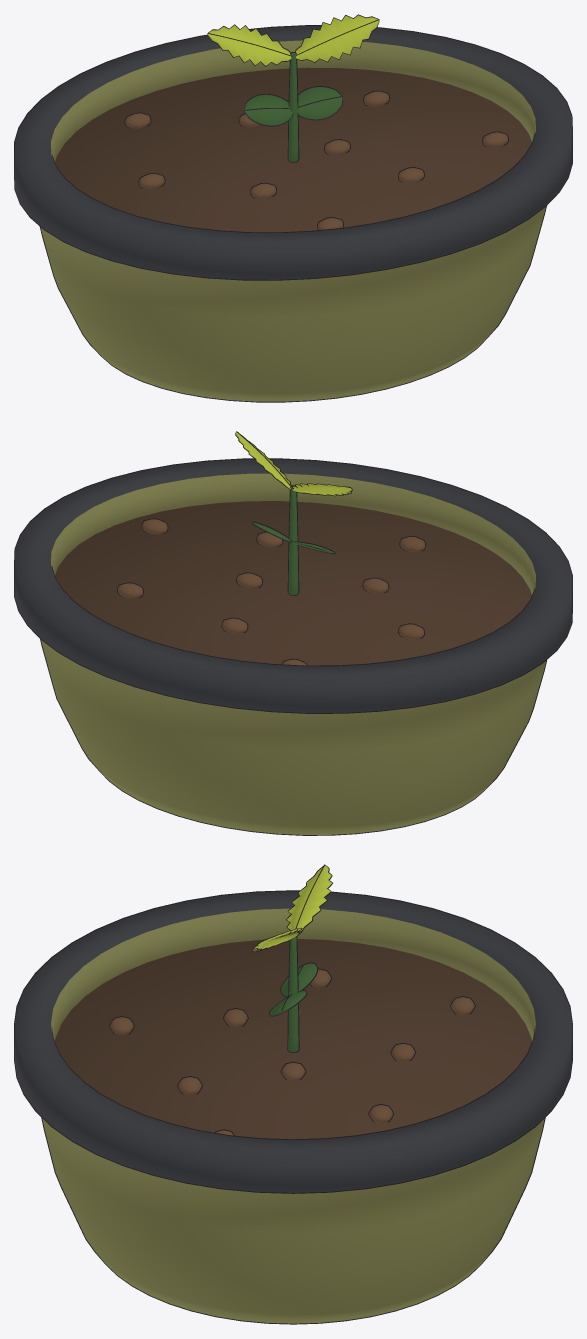
File: cannabis_eventail_seedling_toon.glb
The picture shows the model from 3 angles, top to bottom: view 1: azimuth 30°, elevation 25°; view 2: azimuth 150°, elevation 25°; view 3: azimuth 270°, elevation 25°; orthographic projection. The views are drawn at different scales.
Visible parts, largest first — view 1: cannabis_eventail_seedling_Geometry; view 2: cannabis_eventail_seedling_Geometry; view 3: cannabis_eventail_seedling_Geometry.
Boxes of the visible parts, <box> form: cannabis_eventail_seedling_Geometry: <box>14,14,572,402</box>; cannabis_eventail_seedling_Geometry: <box>14,431,572,835</box>; cannabis_eventail_seedling_Geometry: <box>14,864,572,1324</box>.
Size of the model in its own units: 0.5212 by 0.2965 by 0.4612.
